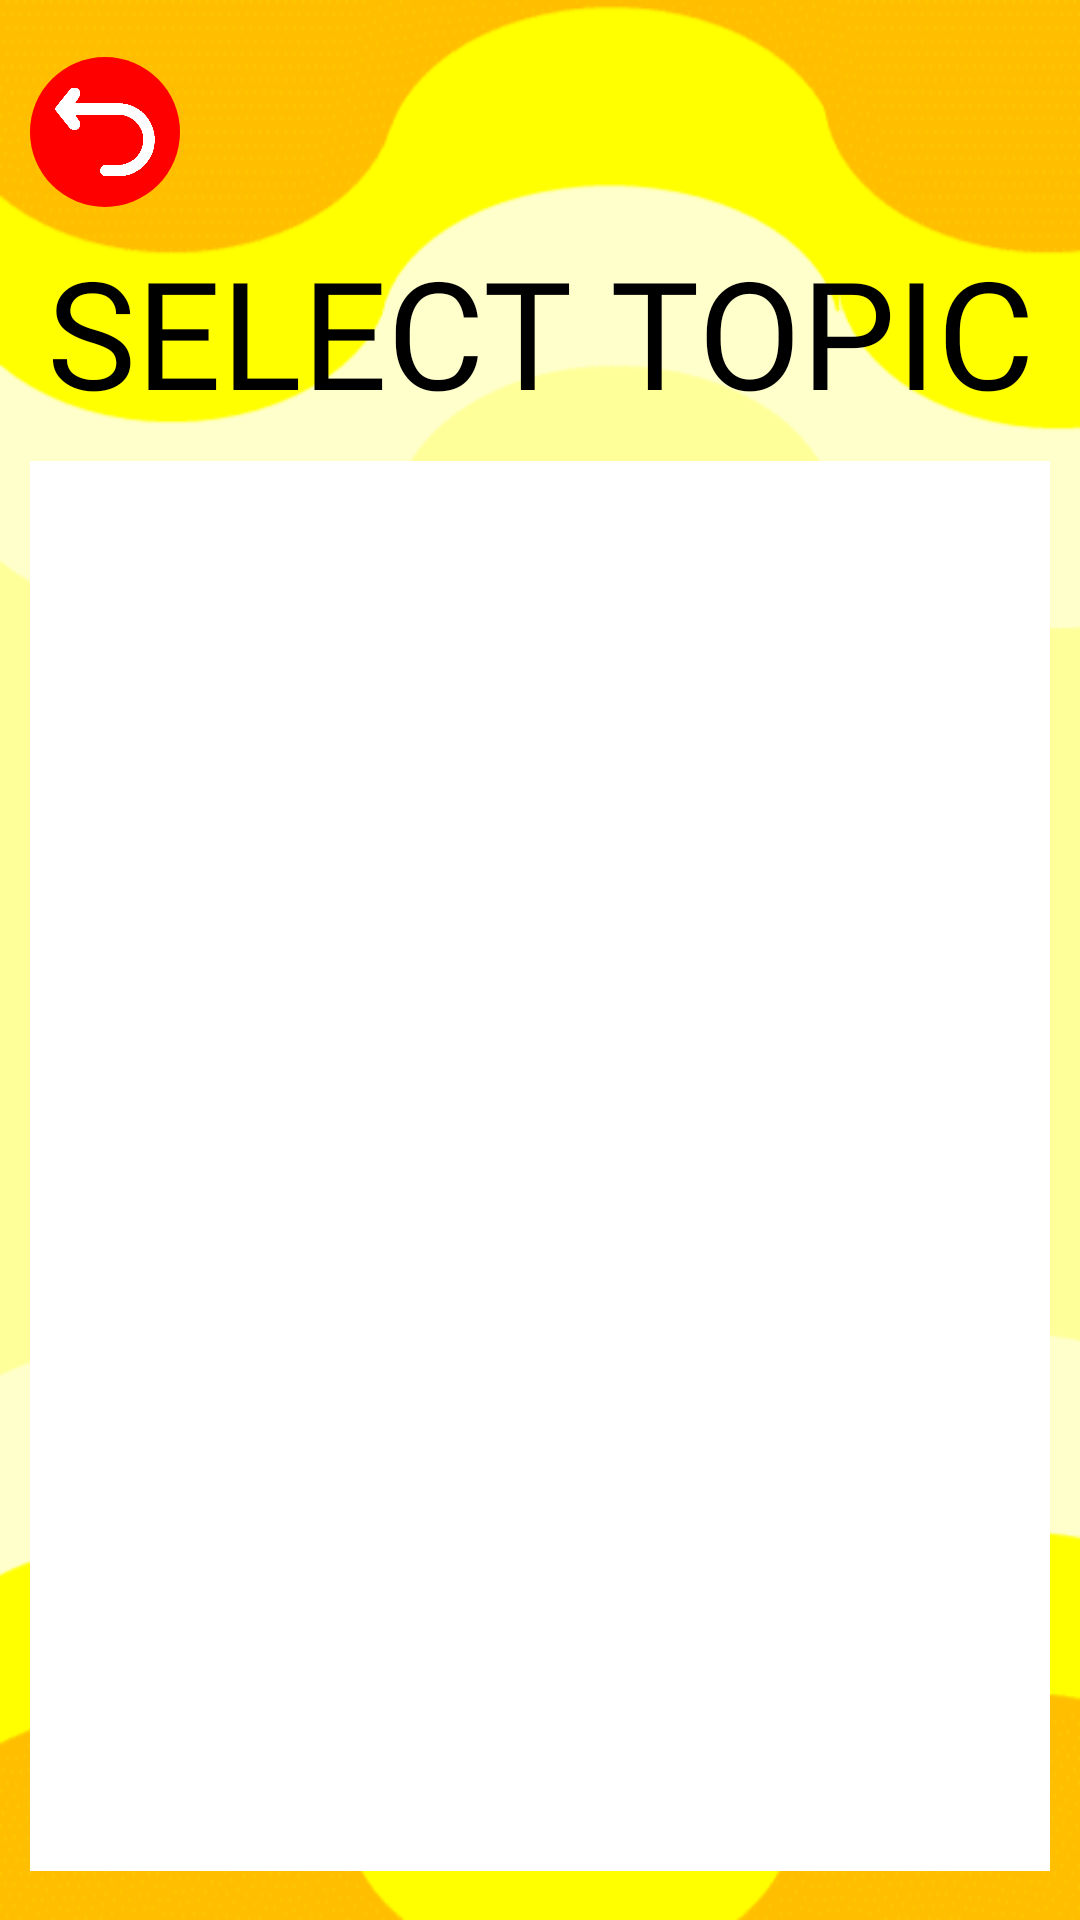

Icon bounding boxes for this 1080×1920 phone screenshot, format bbox=[x1, y1, x2, y2]:
back: bbox=[30, 57, 180, 207]
